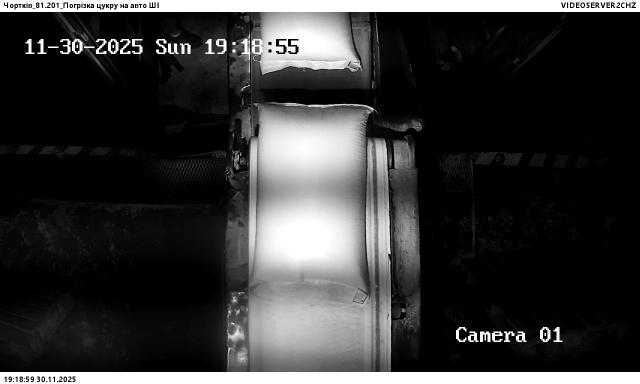bag: (251, 103, 375, 306), (260, 13, 361, 76)
